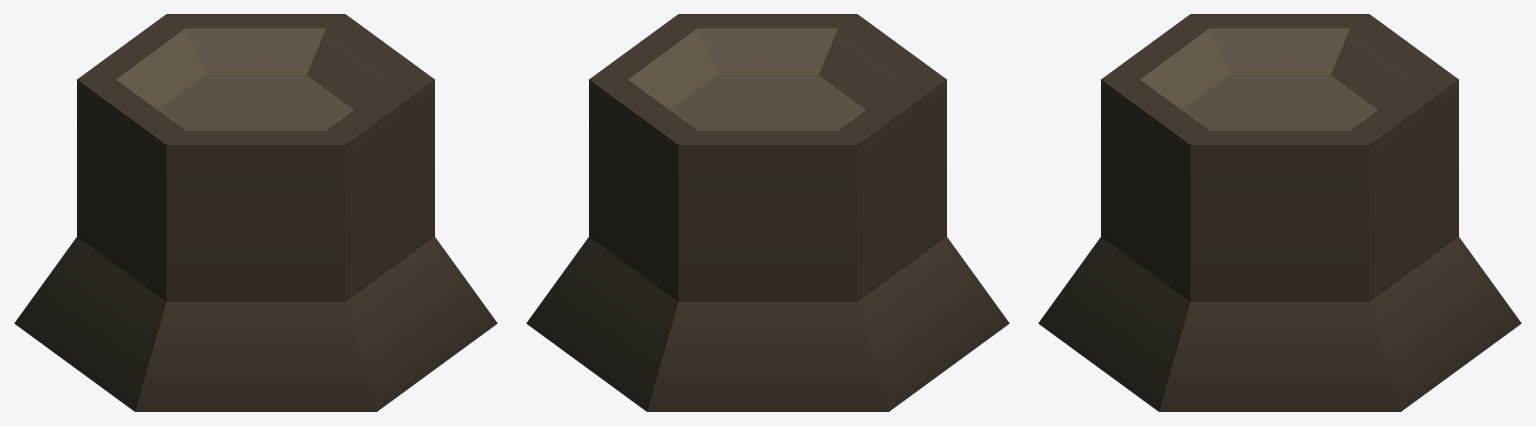
File: totholz_stumpf.glb
3 views of the same model, side by side, from view 1: azimuth 30°, elevation 25°; view 2: azimuth 150°, elevation 25°; view 3: azimuth 270°, elevation 25° (orthographic).
Parts seen in each view (by area): view 1: totholz_stumpf; view 2: totholz_stumpf; view 3: totholz_stumpf.
Boxes of the visible parts, bbox=[...] form: totholz_stumpf: bbox=[14, 14, 497, 411]; totholz_stumpf: bbox=[526, 14, 1009, 411]; totholz_stumpf: bbox=[1038, 14, 1521, 411].
Bounding box in the file's own units: 0.9335 × 0.6 × 1.08.
